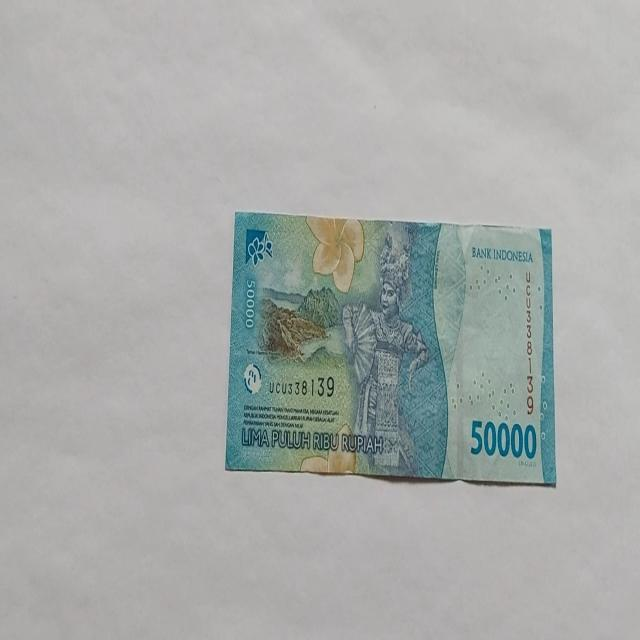lima puluh ribu rupiah: (224, 212, 556, 486), (341, 230, 431, 477)
